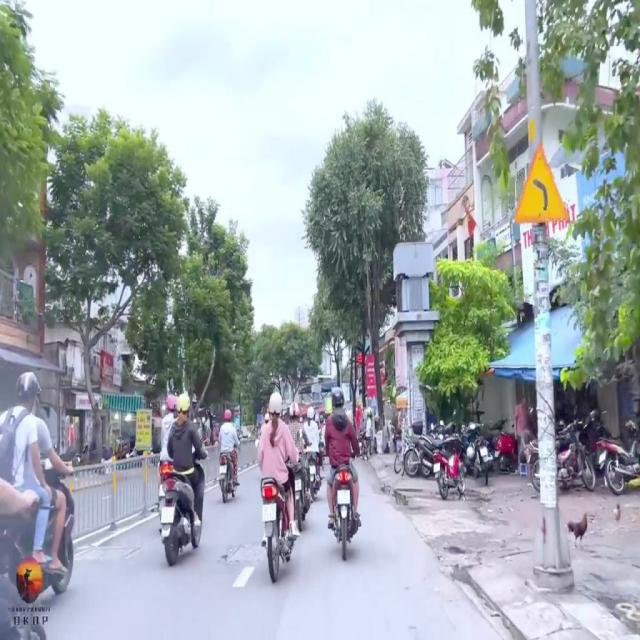cho_ngoat_nguy_hiem_ben_trai: (515, 140, 569, 222)
